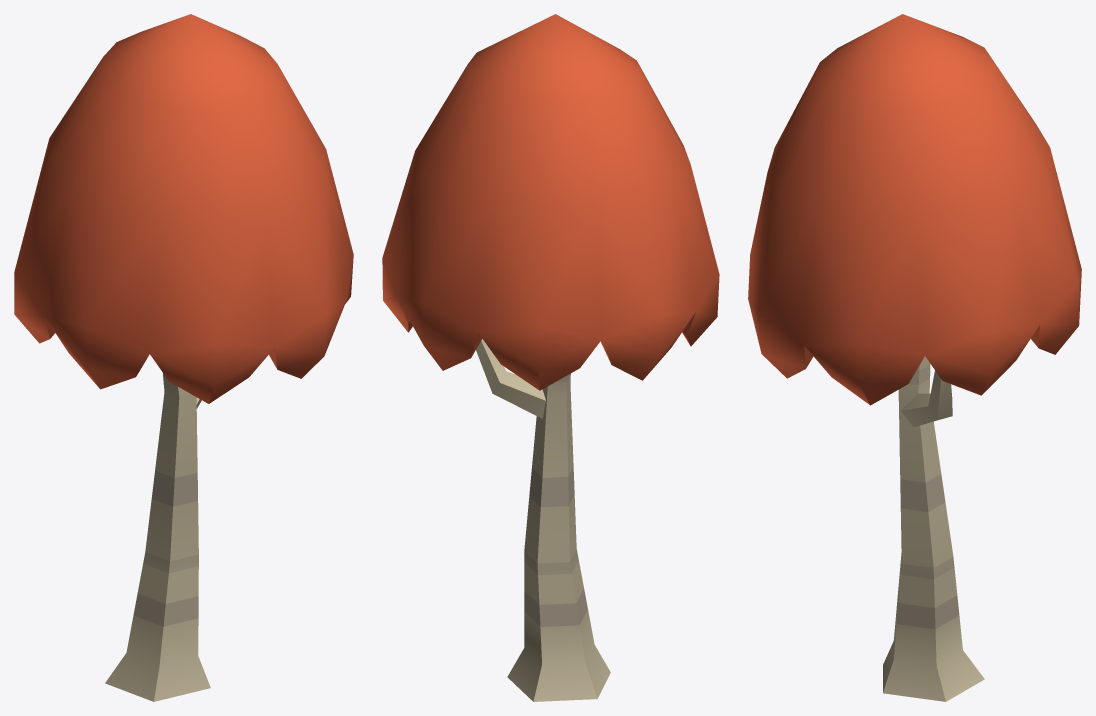
3 views of the same model, side by side, from view 1: azimuth 30°, elevation 25°; view 2: azimuth 150°, elevation 25°; view 3: azimuth 270°, elevation 25° (orthographic). The views are drawn at different scales.
Visible parts, largest first — view 1: mff_tree_birch; view 2: mff_tree_birch; view 3: mff_tree_birch.
Boxes of the visible parts, x1,y1,x2,y2 form: mff_tree_birch: [14, 14, 353, 701]; mff_tree_birch: [382, 14, 719, 701]; mff_tree_birch: [748, 14, 1081, 701].
Size of the model in its own units: 1.51 by 3.36 by 1.51.
Materials: 1 (1 with a texture image).
